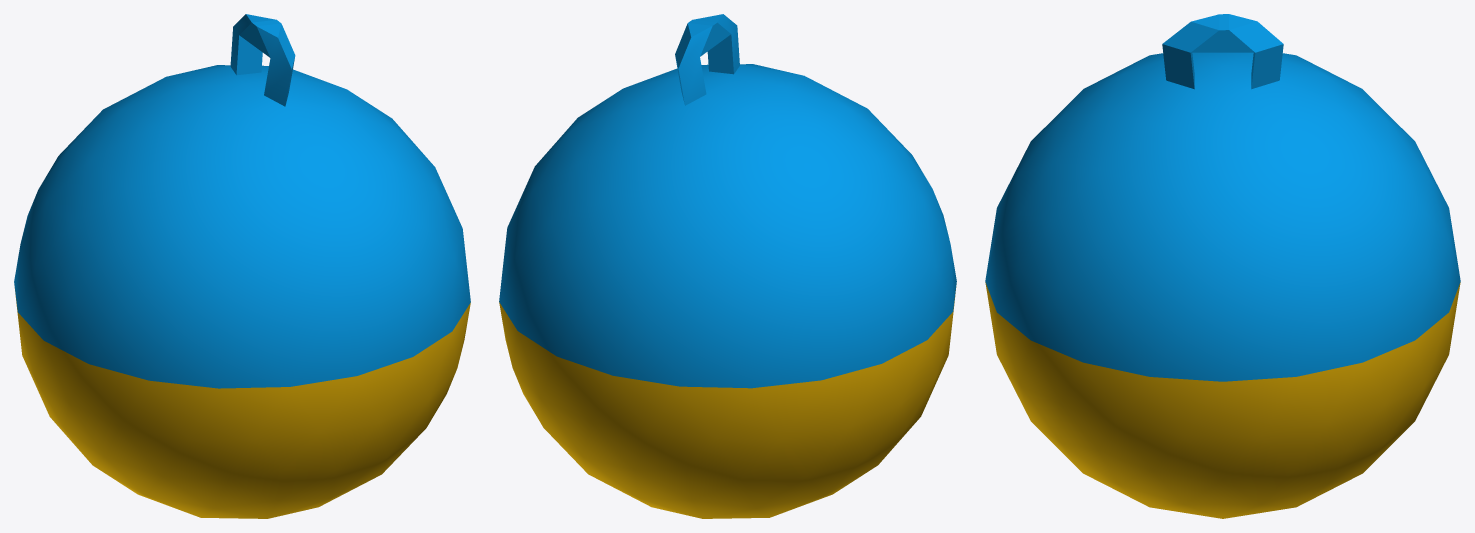
The model's file is ball.fbx.
The picture shows the model from 3 angles, left to right: view 1: azimuth 30°, elevation 25°; view 2: azimuth 150°, elevation 25°; view 3: azimuth 270°, elevation 25°; orthographic projection. The views are drawn at different scales.
Parts seen in each view (by area): view 1: Icosphere.004; view 2: Icosphere.004; view 3: Icosphere.004.
Boxes of the visible parts, box(x1,y1,x2,y2) form: Icosphere.004: box(14, 14, 470, 518); Icosphere.004: box(499, 14, 956, 518); Icosphere.004: box(985, 14, 1460, 518).
Bounding box in the file's own units: 123 × 140 × 123.
